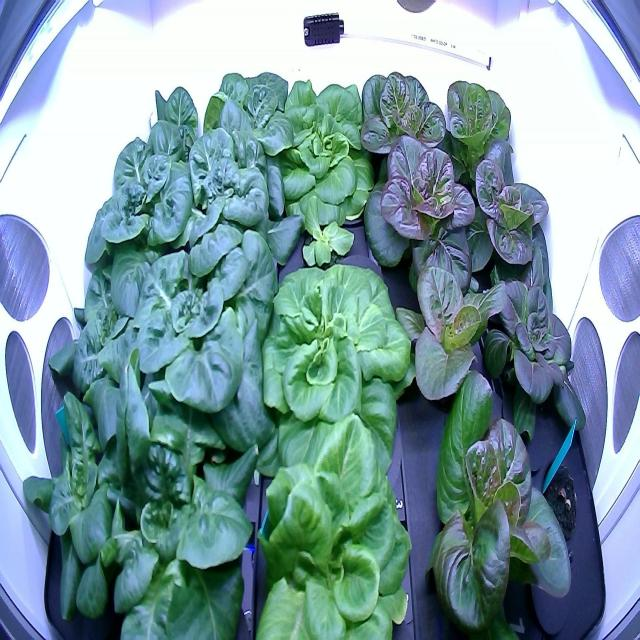young: (71, 354, 272, 640), (109, 208, 283, 482), (418, 354, 576, 636), (238, 411, 421, 638), (245, 255, 421, 476), (19, 380, 164, 632), (44, 217, 184, 462), (162, 112, 307, 286), (472, 257, 589, 468), (358, 124, 487, 310), (392, 236, 512, 419), (257, 75, 391, 229), (86, 128, 211, 290), (462, 149, 555, 312), (351, 61, 453, 196), (191, 57, 298, 180), (110, 75, 222, 185), (438, 66, 517, 210), (291, 197, 360, 284)
